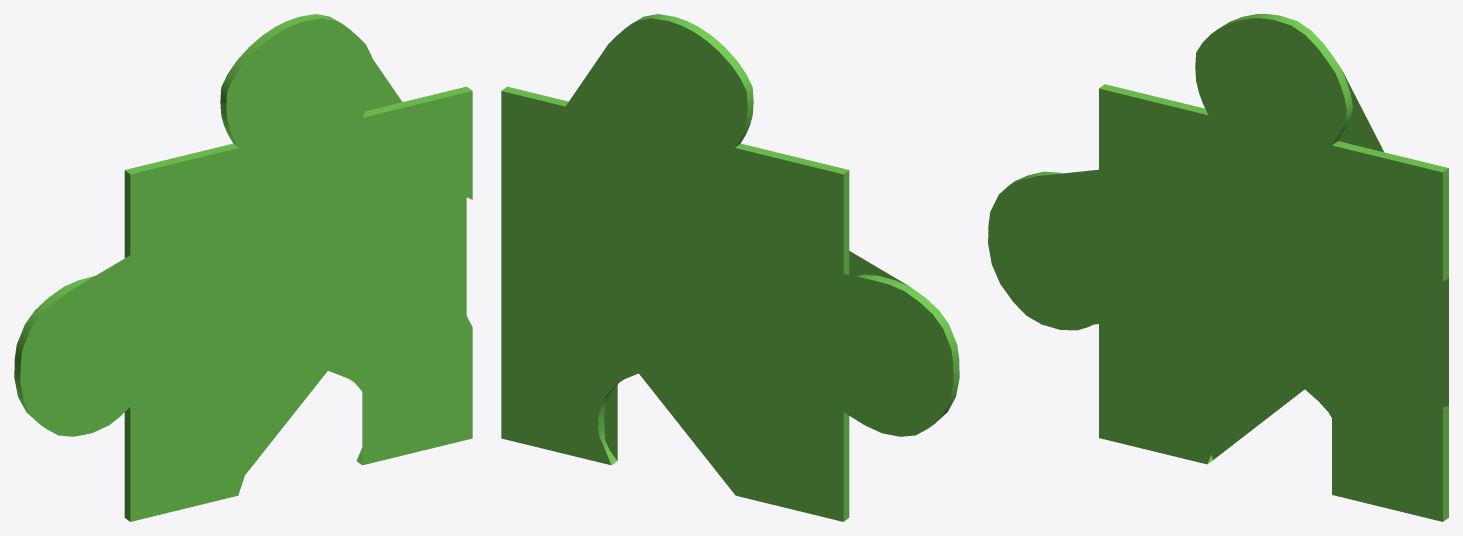
Rendered from InsidePieceSix.obj.
The picture shows the model from 3 angles, left to right: view 1: azimuth 30°, elevation 25°; view 2: azimuth 150°, elevation 25°; view 3: azimuth 330°, elevation 25°; orthographic projection.
Parts seen in each view (by area): view 1: Cap_1, Cap_2, Extrude; view 2: Cap_2, Extrude, Cap_1; view 3: Cap_1, Cap_2, Extrude.
Part boxes in pixels (left/top/right/bottom): Cap_1: left=20, top=18, right=472, bottom=521; Cap_2: left=245, top=59, right=466, bottom=474; Extrude: left=14, top=14, right=472, bottom=521; Cap_2: left=501, top=18, right=953, bottom=521; Extrude: left=501, top=14, right=959, bottom=521; Cap_1: left=604, top=251, right=908, bottom=460; Cap_1: left=988, top=18, right=1442, bottom=521; Cap_2: left=1094, top=70, right=1448, bottom=459; Extrude: left=1010, top=14, right=1448, bottom=521.
Size of the model in its own units: 0.6929 by 0.6707 by 0.0158.
